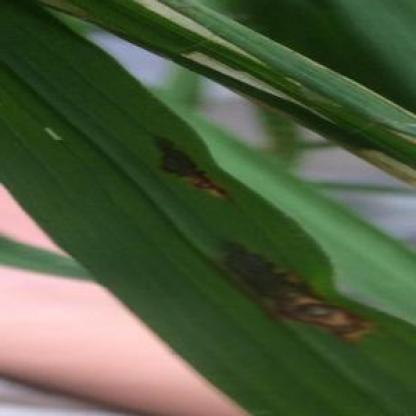Rice blast: (221, 229, 399, 372), (142, 123, 241, 212)
